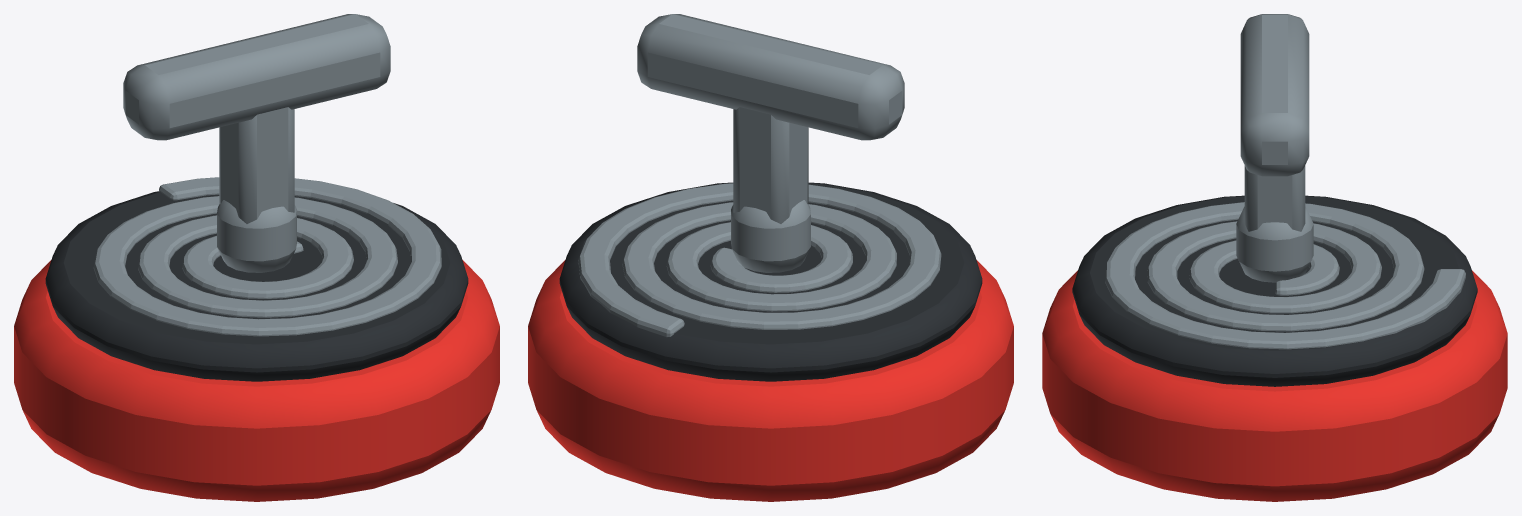
The model's file is 02_WindupSpring.fbx.
3 views of the same model, side by side, from view 1: azimuth 30°, elevation 25°; view 2: azimuth 150°, elevation 25°; view 3: azimuth 270°, elevation 25° (orthographic). The views are drawn at different scales.
Visible parts, largest first — view 1: ClockSpring_Cartridge, ClockSpring_Face, Flat_ClockSpring, Windup_Key_Grip, Windup_Key_Stem, Winding_Hub; view 2: ClockSpring_Cartridge, Flat_ClockSpring, ClockSpring_Face, Windup_Key_Grip, Windup_Key_Stem, Winding_Hub; view 3: ClockSpring_Cartridge, Flat_ClockSpring, ClockSpring_Face, Windup_Key_Grip, Winding_Hub, Windup_Key_Stem.
Boxes of the visible parts, left/top/right/bottom form: ClockSpring_Cartridge: left=14, top=260, right=499, bottom=501; ClockSpring_Face: left=45, top=191, right=468, bottom=381; Flat_ClockSpring: left=93, top=177, right=441, bottom=336; Windup_Key_Grip: left=123, top=14, right=390, bottom=140; Windup_Key_Stem: left=219, top=107, right=294, bottom=223; Winding_Hub: left=217, top=200, right=296, bottom=272; ClockSpring_Cartridge: left=528, top=260, right=1013, bottom=501; Flat_ClockSpring: left=578, top=183, right=941, bottom=336; ClockSpring_Face: left=559, top=182, right=982, bottom=381; Windup_Key_Grip: left=637, top=14, right=904, bottom=140; Windup_Key_Stem: left=733, top=107, right=808, bottom=223; Winding_Hub: left=731, top=200, right=810, bottom=272; ClockSpring_Cartridge: left=1042, top=270, right=1507, bottom=501; Flat_ClockSpring: left=1105, top=202, right=1465, bottom=349; ClockSpring_Face: left=1072, top=195, right=1477, bottom=386; Windup_Key_Grip: left=1240, top=14, right=1309, bottom=176; Winding_Hub: left=1236, top=206, right=1313, bottom=282; Windup_Key_Stem: left=1244, top=165, right=1305, bottom=231.
Size of the model in its own units: 54 by 45 by 54.
